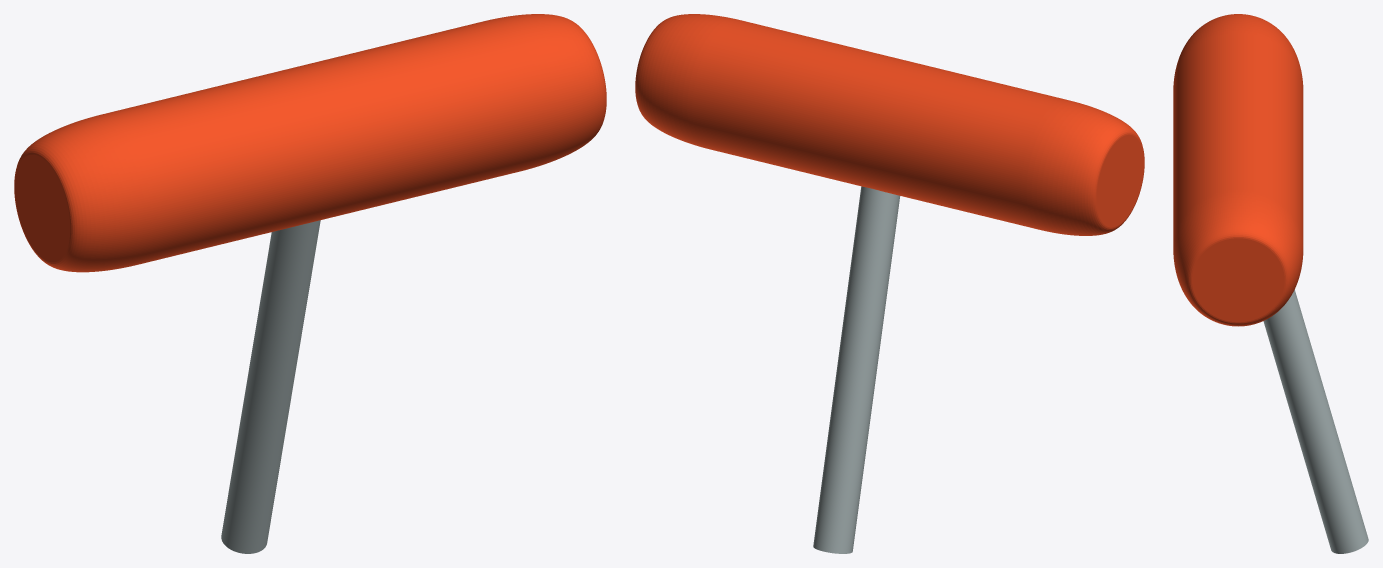
Rendered from Lever_Red2.glb.
The picture shows the model from 3 angles, left to right: view 1: azimuth 30°, elevation 25°; view 2: azimuth 150°, elevation 25°; view 3: azimuth 270°, elevation 25°; orthographic projection. The views are drawn at different scales.
Parts seen in each view (by area): view 1: Lever Top, Lever Body; view 2: Lever Top, Lever Body; view 3: Lever Top, Lever Body.
Boxes of the visible parts, left/top/right/bottom form: Lever Top: left=14, top=14, right=606, bottom=272; Lever Body: left=221, top=220, right=320, bottom=553; Lever Top: left=635, top=14, right=1144, bottom=235; Lever Body: left=813, top=186, right=900, bottom=553; Lever Top: left=1173, top=14, right=1303, bottom=326; Lever Body: left=1263, top=290, right=1368, bottom=553.
Size of the model in its own units: 0.2 by 0.1856 by 0.0751.
